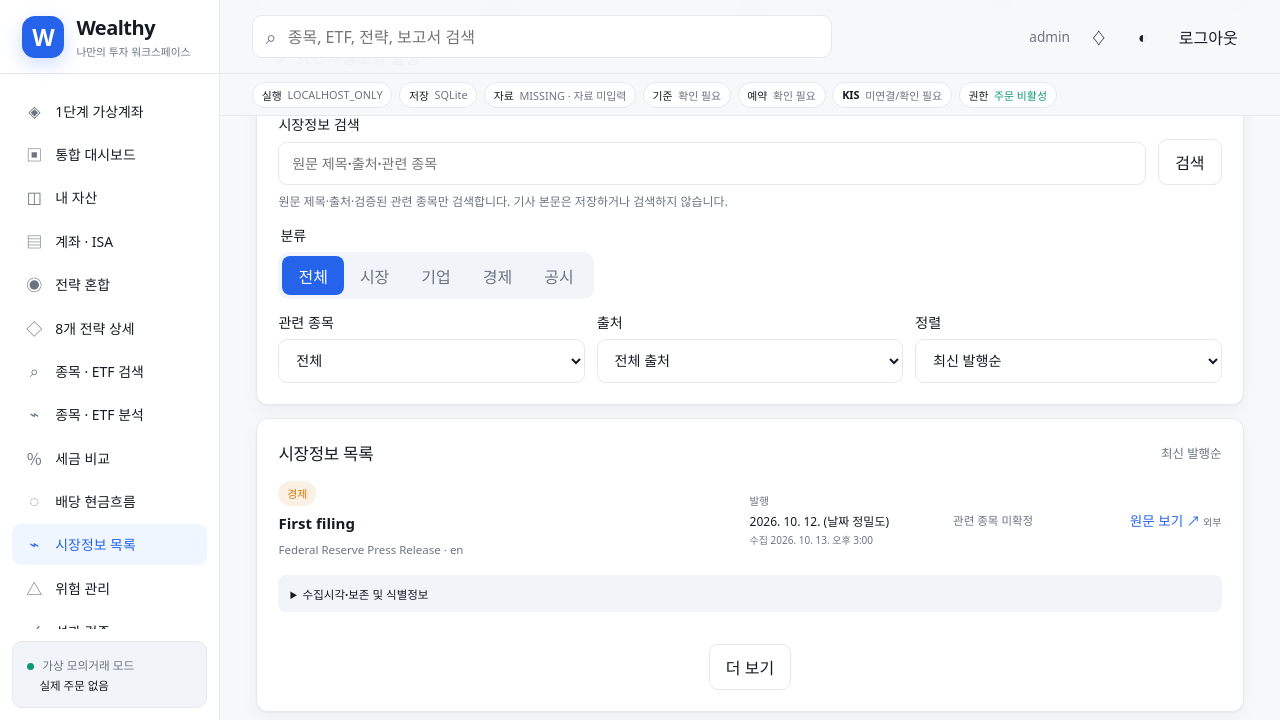
Test: 미국 시장정보 화면 › 검색·정렬·커서 페이지 이동에 현재 snapshot을 유지한다
The image size is (1280, 720).
(page scrolled)
Expected: the heading "First filing" is shown, [278,513,355,533]
Select "최근 수집순" in the dropdown labelled "정렬": (1068, 361) [915,339,1222,383]
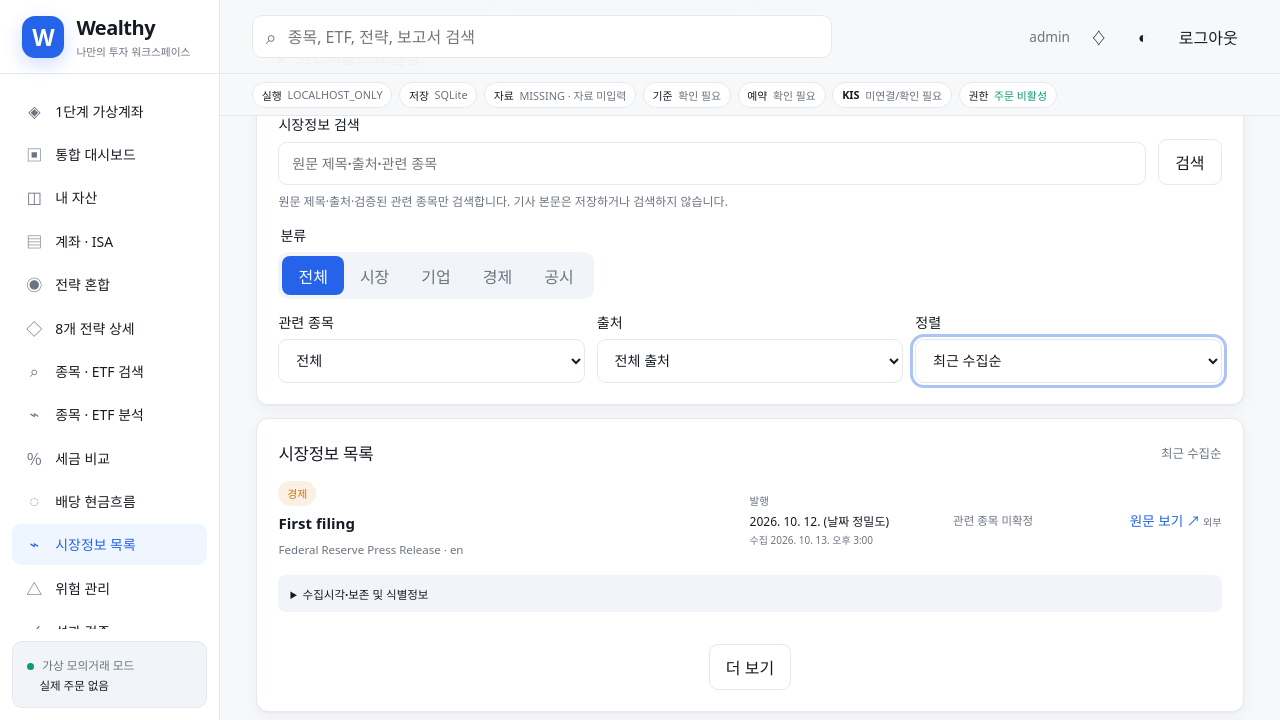
Expected: the heading "First filing" is shown, [278,513,355,533]
In the field labelled "시장정보 검색": (712, 163) [278,142,1146,185], type "SEC filing"
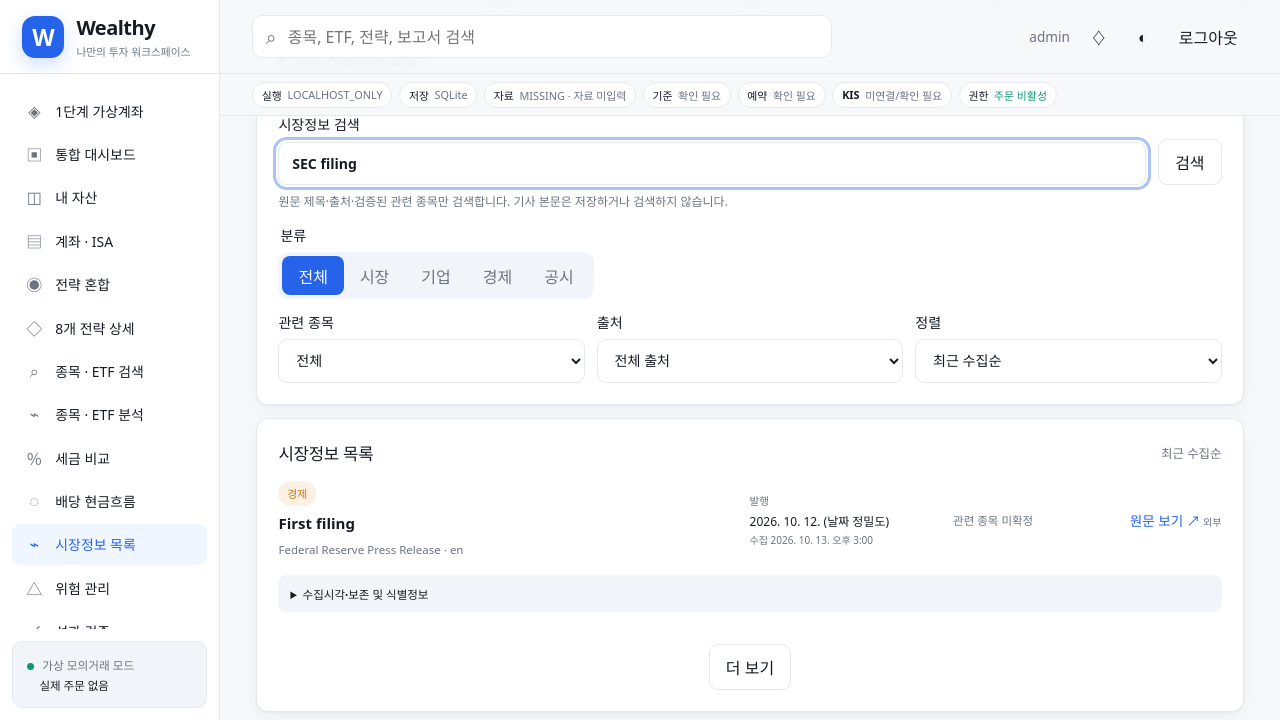
Click the button "검색": (1190, 162) [1158,139,1222,185]
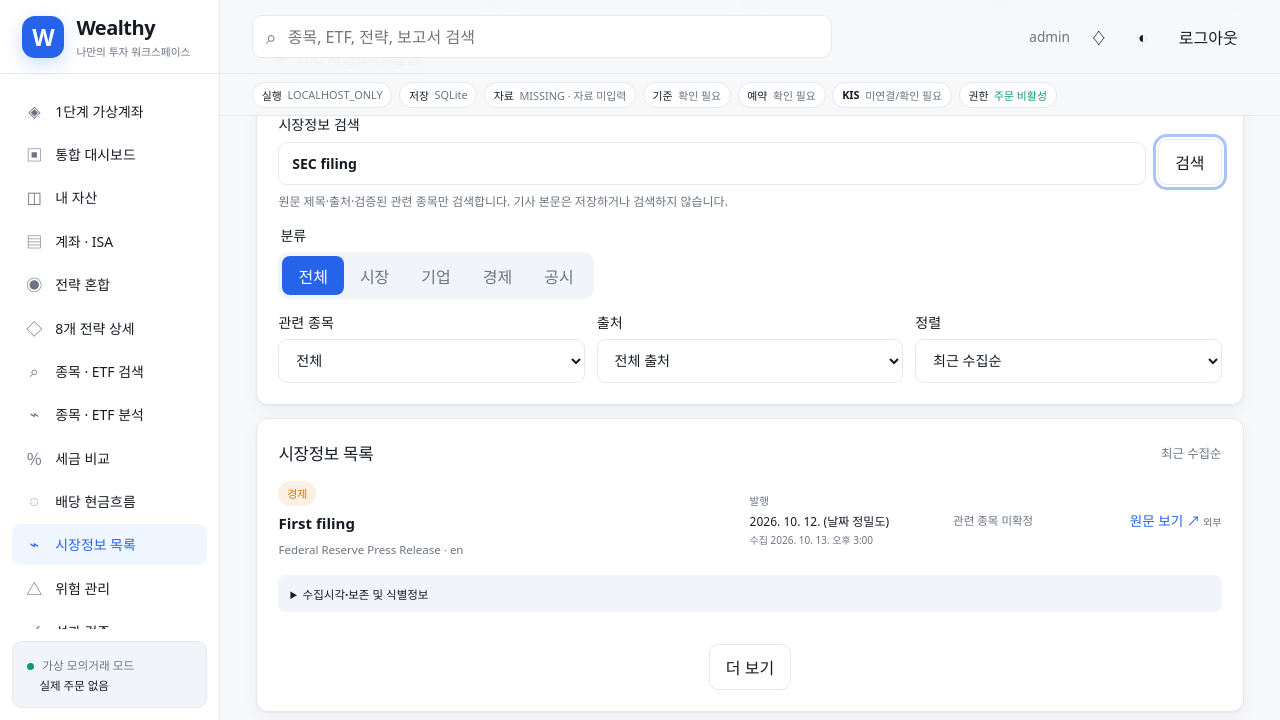
Expected: the heading "First filing" is shown, [278,513,355,533]
Click the button "더 보기": (750, 667) [709,644,791,690]
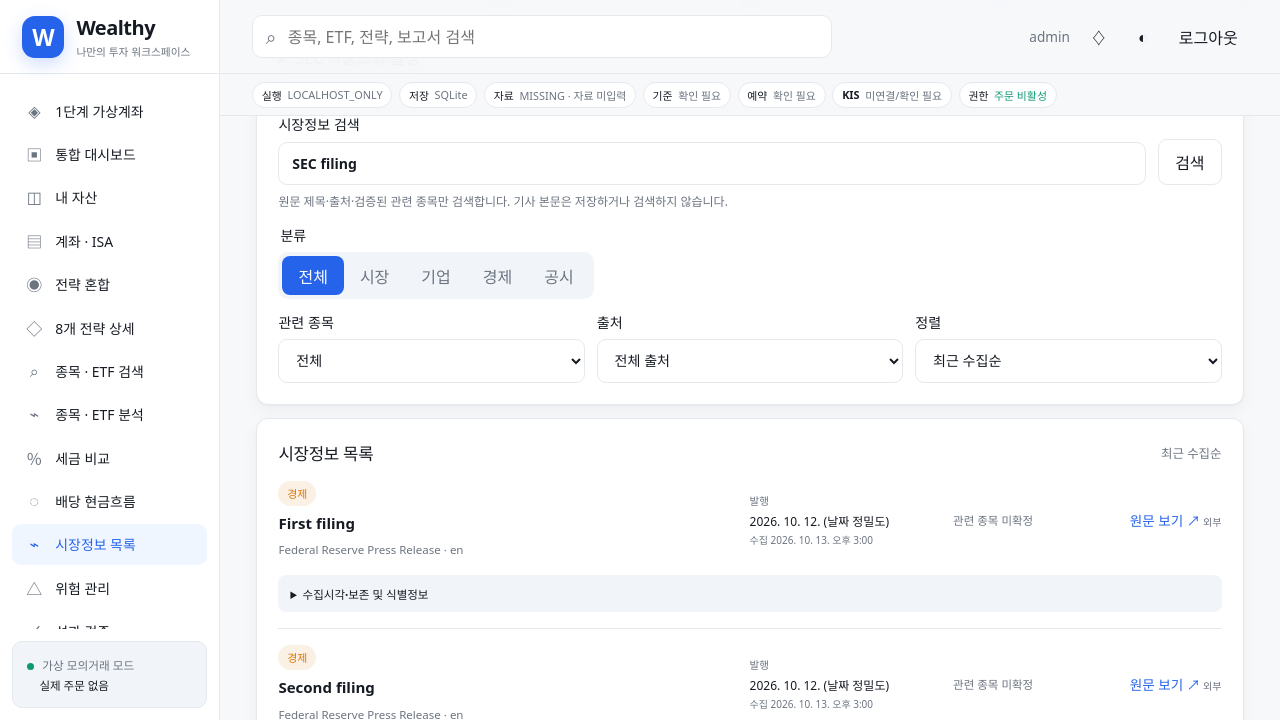
Now the heading "Second filing" is shown, box [278,677,375,697]
